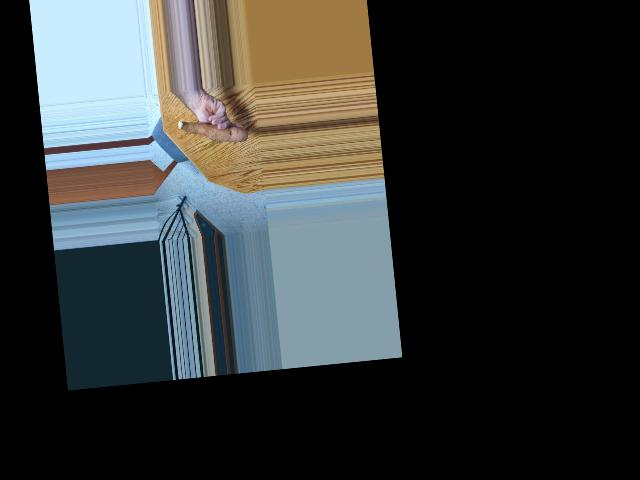sweet_potato: (175, 112, 247, 150)
